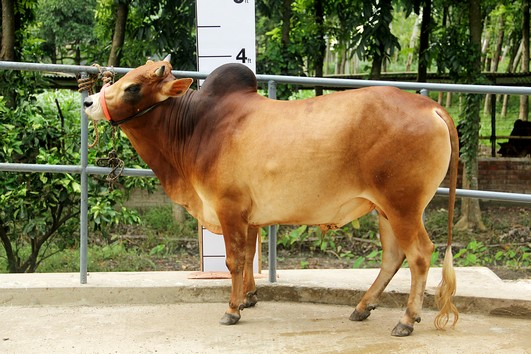cow: (75, 49, 467, 338)
